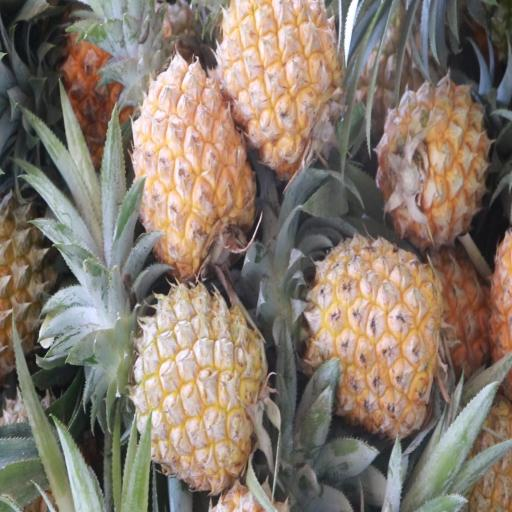------------------------------: (0, 191, 67, 374)
Pineapple - v8 v1: (132, 287, 264, 489), (132, 56, 256, 268), (310, 232, 441, 429), (216, 3, 342, 161), (380, 81, 486, 245)
